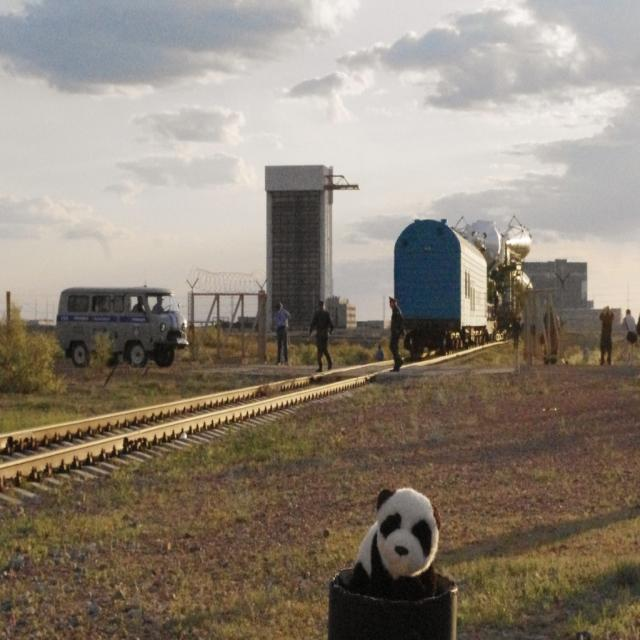panda: (351, 488, 446, 606)
